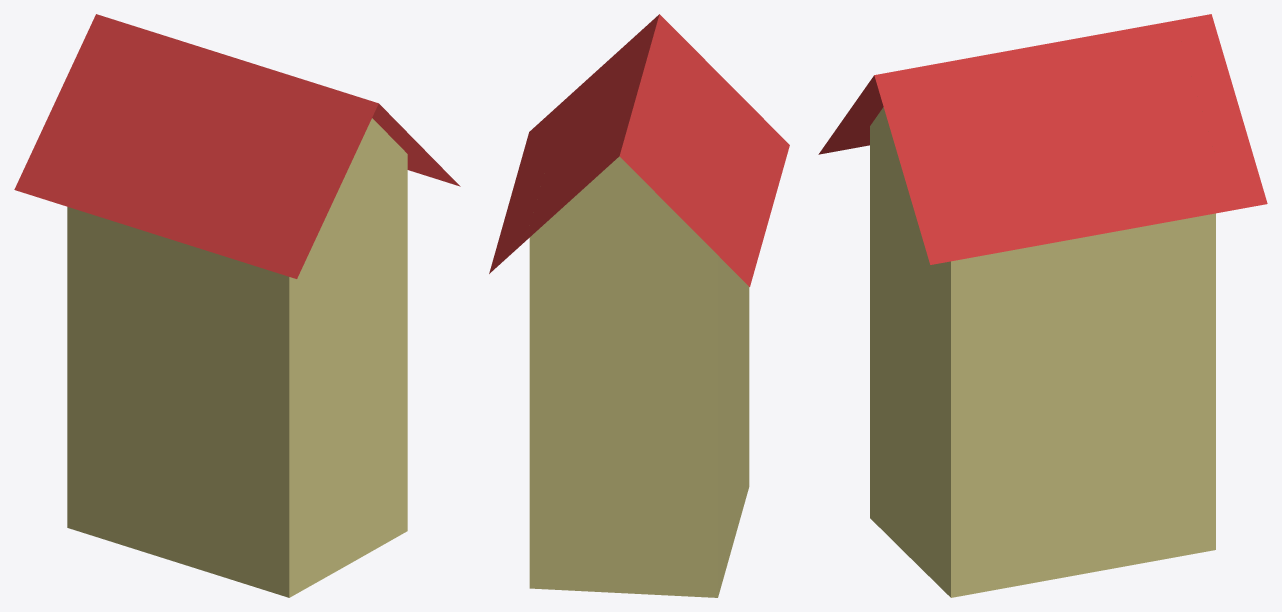
3 renders of one model, left to right at view 1: azimuth 30°, elevation 25°; view 2: azimuth 150°, elevation 25°; view 3: azimuth 270°, elevation 25°, orthographic. The views are drawn at different scales.
Size of the model in its own units: 5.14 by 5.7 by 6.85.
